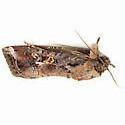army worm adult: (4, 35, 118, 88)
